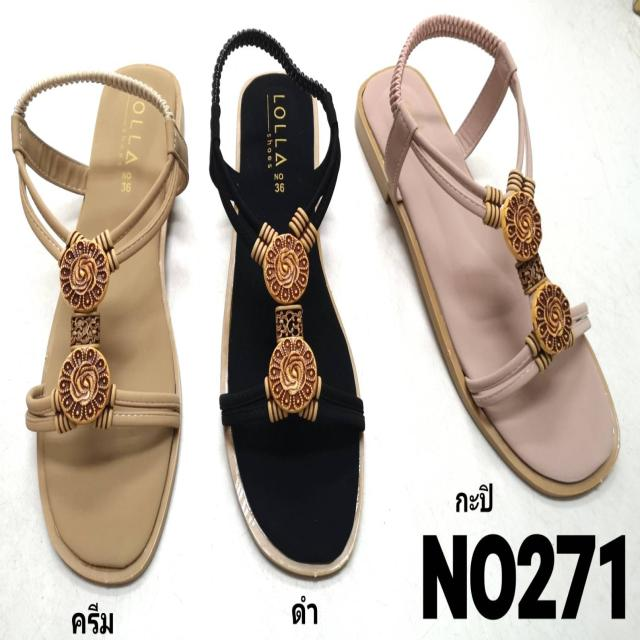black: (229, 71, 365, 574)
cream: (40, 68, 182, 585)
kapi: (358, 64, 618, 496)
